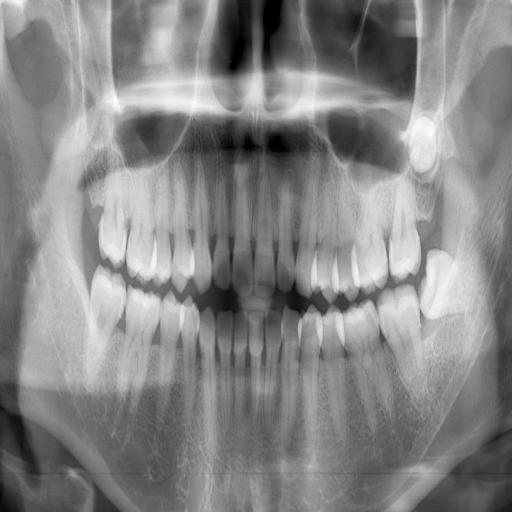Wisdom teeth: (420, 249, 463, 318)
